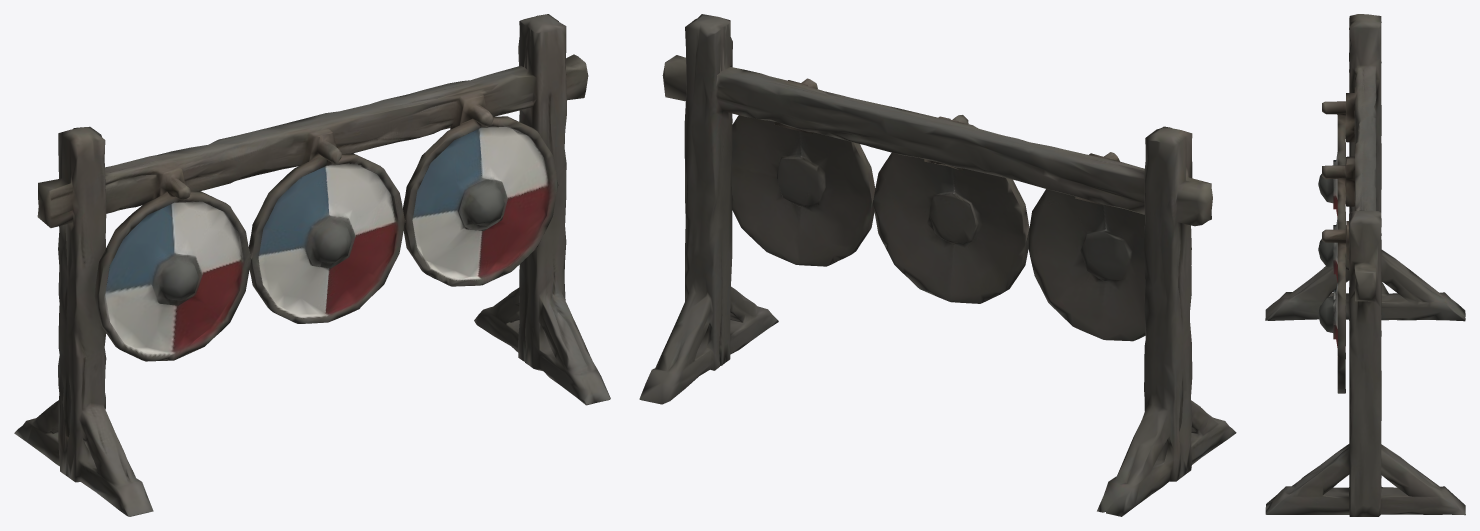
File: shield-rack.glb
3 views of the same model, side by side, from view 1: azimuth 30°, elevation 25°; view 2: azimuth 150°, elevation 25°; view 3: azimuth 270°, elevation 25° (orthographic). The views are drawn at different scales.
Parts seen in each view (by area): view 1: tripo_node_50f08a58-ad82-40dc-b063-48ce80061b50; view 2: tripo_node_50f08a58-ad82-40dc-b063-48ce80061b50; view 3: tripo_node_50f08a58-ad82-40dc-b063-48ce80061b50.
Part boxes in pixels (x1=…): tripo_node_50f08a58-ad82-40dc-b063-48ce80061b50: x1=14, y1=14, x2=610, y2=516; tripo_node_50f08a58-ad82-40dc-b063-48ce80061b50: x1=639, y1=14, x2=1236, y2=516; tripo_node_50f08a58-ad82-40dc-b063-48ce80061b50: x1=1265, y1=14, x2=1465, y2=516.
Bounding box in the file's own units: 1 × 0.6012 × 0.3674.
1 material, 1 textured.
